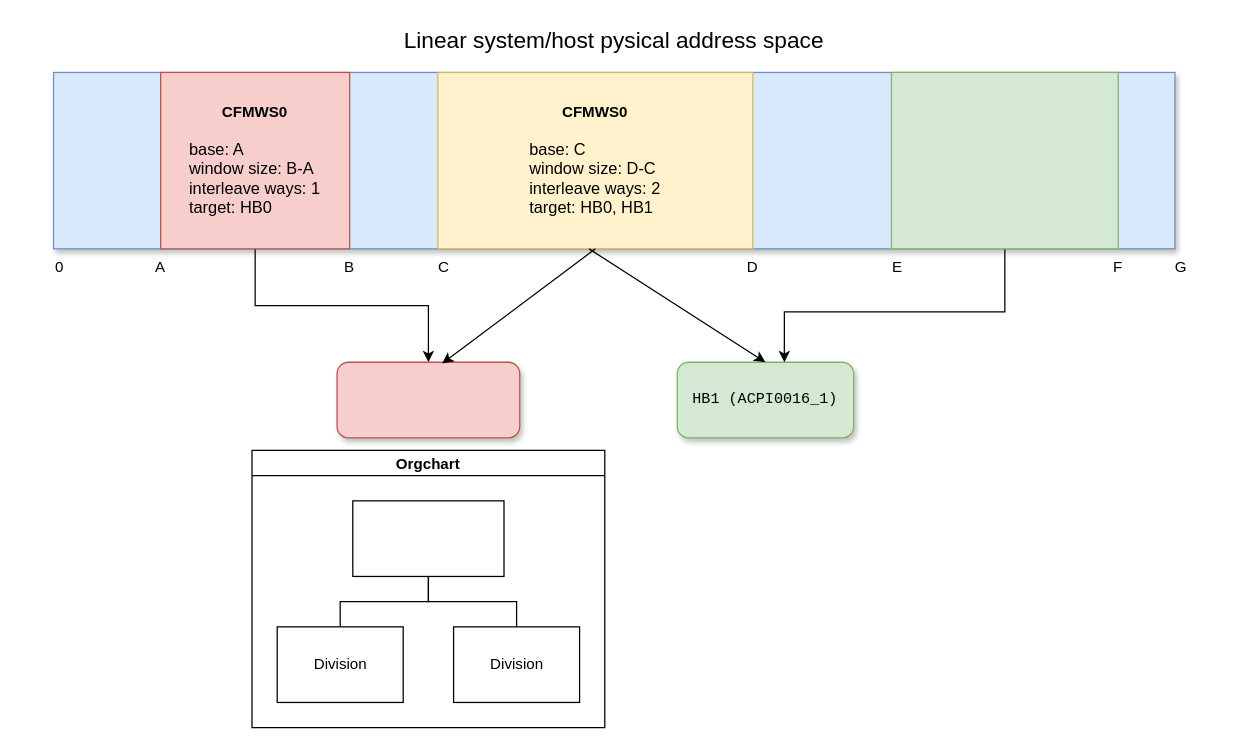
This 1240x750 diagram has some shape labels left out. The shapes that lost their labels are listed below. From the top down, each one's centre as x and y in pixels, then its label:
(x=1004, y=160): CFMWS2 base: E window size: F-E interleave ways: 1 target: HB1
(x=429, y=401): HB0 (ACPI0016_0)
(x=428, y=538): Organization
